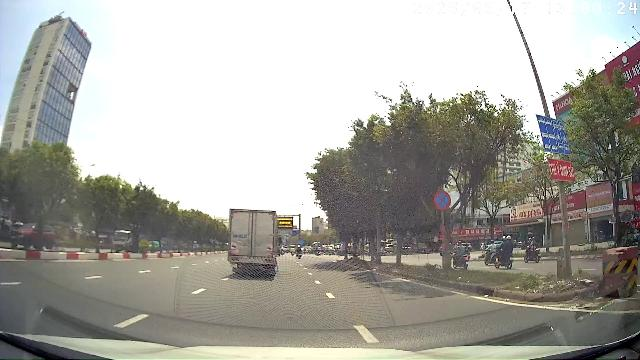130-cam-dung-va-do-xe: (433, 190, 451, 210)
